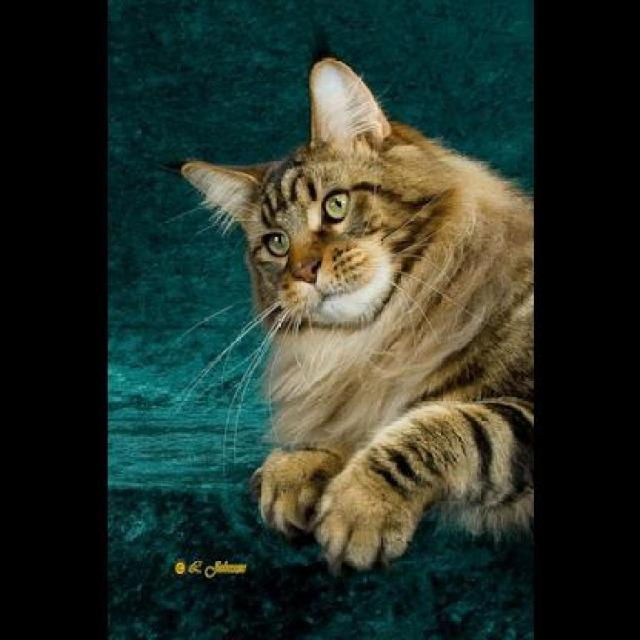unauthorized: (164, 54, 534, 577)
